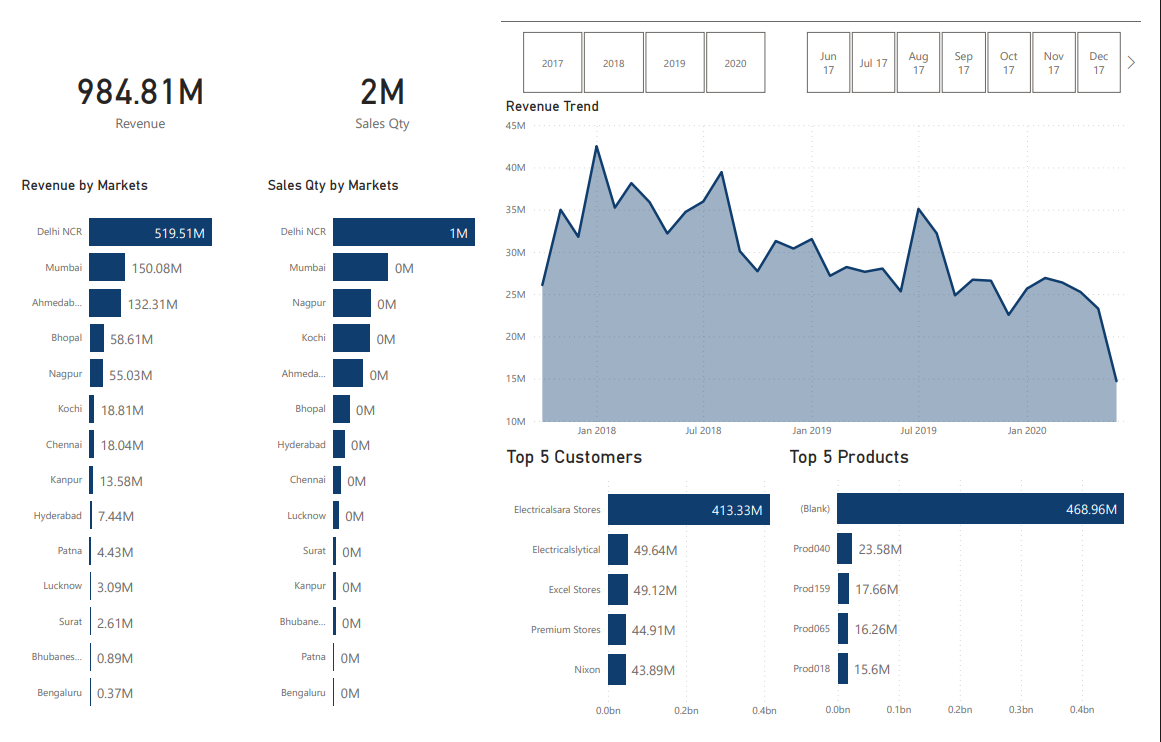

What the dashboard file says about the page in this screenshot:
{"tool":"powerbi","page":{"name":"Page 1","canvas":[1350,850],"ordinal":0},"visuals":[{"type":"card","fields":{"Values":["BaseMeasures.Revenue"]},"box":[0,0,296,192],"z":0},{"type":"card","fields":{"Values":["BaseMeasures.Sales Qty"]},"box":[296,0,286,192],"z":1000},{"type":"clusteredBarChart","title":"Revenue by Markets","fields":{"Category":["sales markets.markets_name"],"Y":["BaseMeasures.Revenue"]},"box":[0,192,296,658],"z":2000},{"type":"clusteredBarChart","title":"Sales Qty by Markets","fields":{"Category":["sales markets.markets_name"],"Y":["BaseMeasures.Sales Qty"]},"box":[296,192,286,658],"z":3000},{"type":"slicer","fields":{"Values":["sales date.year"]},"box":[581.7,0,341.7,96.7],"z":4000},{"type":"slicer","fields":{"Values":["sales date.cy_date"]},"box":[923.3,0,426.7,96.7],"z":5000},{"type":"clusteredBarChart","title":"Top 5 Customers","fields":{"Category":["sales customers.custmer_name"],"Y":["BaseMeasures.Revenue"]},"box":[581.7,515,341.7,335],"z":6000},{"type":"clusteredBarChart","title":"Top 5 Products","fields":{"Category":["sales products.product_code"],"Y":["BaseMeasures.Revenue"]},"box":[923.3,515,426.7,335],"z":7000},{"type":"areaChart","title":"Revenue Trend","fields":{"Category":["sales date.cy_date"],"Y":["BaseMeasures.Revenue"]},"box":[581.7,96.7,768.3,418.3],"z":8000}]}

Visuals, with their boxes in screenshot pixels (x1, y1, x2, y2), scaled from the page's 1350x850 canvas onto the 1161x742 screenshot:
card - BaseMeasures.Revenue: 0,0,255,168
card - BaseMeasures.Sales Qty: 255,0,501,168
"Revenue by Markets" clusteredBarChart: 0,168,255,741
"Sales Qty by Markets" clusteredBarChart: 255,168,501,741
slicer - sales date.year: 500,0,794,84
slicer - sales date.cy_date: 794,0,1160,84
"Top 5 Customers" clusteredBarChart: 500,450,794,741
"Top 5 Products" clusteredBarChart: 794,450,1160,741
"Revenue Trend" areaChart: 500,84,1160,450
